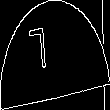L_S: (44, 28, 66, 82)
